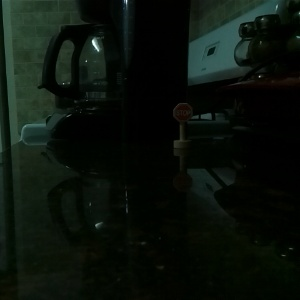stop sign: (169, 101, 195, 155)
